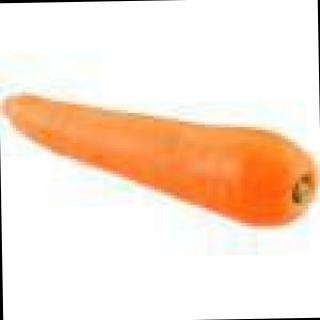Wortel: (1, 65, 319, 256)
